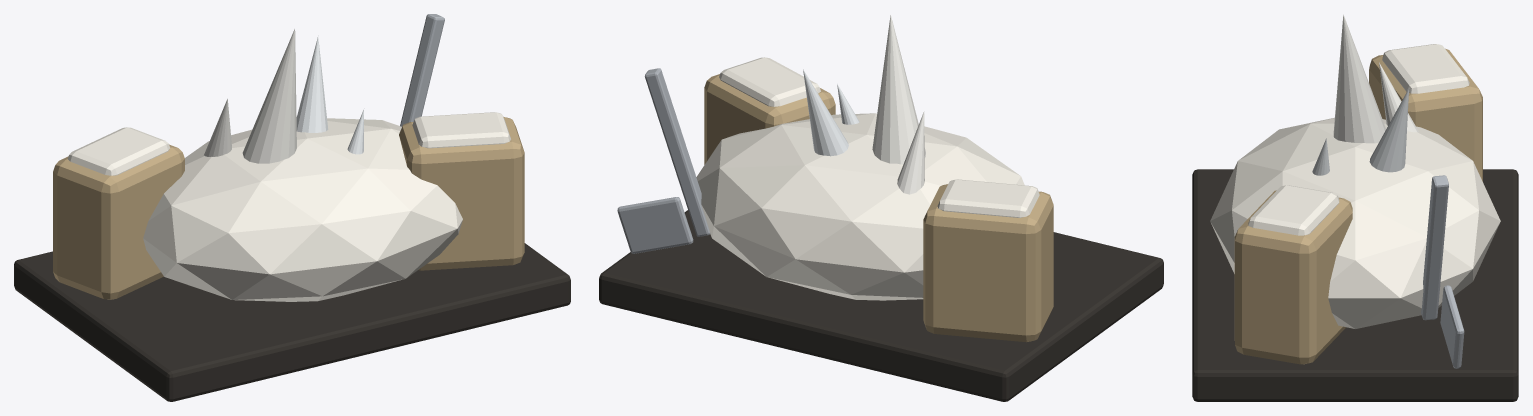
Rendered from quartz.glb.
The picture shows the model from 3 angles, left to right: view 1: azimuth 30°, elevation 25°; view 2: azimuth 150°, elevation 25°; view 3: azimuth 270°, elevation 25°; orthographic projection. The views are drawn at different scales.
Parts seen in each view (by area): view 1: quartz-sand-dune, quartz-black-pallet, quartz-left-sack, quartz-right-sack, quartz-crystal-0, quartz-right-fill, quartz-left-fill, quartz-spade-shaft, quartz-crystal-1, quartz-crystal-2; view 2: quartz-black-pallet, quartz-sand-dune, quartz-left-sack, quartz-right-sack, quartz-crystal-0, quartz-spade-blade, quartz-spade-shaft, quartz-left-fill, quartz-right-fill, quartz-crystal-1, quartz-crystal-2; view 3: quartz-black-pallet, quartz-sand-dune, quartz-right-sack, quartz-left-sack, quartz-crystal-0, quartz-right-fill, quartz-left-fill, quartz-spade-shaft, quartz-crystal-1, quartz-spade-blade, quartz-crystal-2, quartz-crystal-3.
Boxes of the visible parts, box(x1,y1,x2,y2) form: quartz-sand-dune: box(143, 118, 462, 301); quartz-black-pallet: box(14, 243, 570, 401); quartz-left-sack: box(53, 144, 184, 299); quartz-right-sack: box(399, 117, 524, 270); quartz-crystal-0: box(242, 29, 296, 163); quartz-right-fill: box(412, 112, 510, 148); quartz-left-fill: box(68, 127, 169, 175); quartz-spade-shaft: box(400, 14, 444, 126); quartz-crystal-1: box(296, 36, 328, 132); quartz-crystal-2: box(204, 99, 231, 156); quartz-black-pallet: box(599, 210, 1163, 401); quartz-sand-dune: box(696, 113, 1024, 300); quartz-left-sack: box(923, 184, 1053, 342); quartz-right-sack: box(704, 74, 835, 164); quartz-crystal-0: box(872, 15, 925, 164); quartz-spade-blade: box(617, 197, 693, 253); quartz-spade-shaft: box(644, 68, 710, 236); quartz-left-fill: box(937, 179, 1039, 217); quartz-right-fill: box(719, 57, 820, 106); quartz-crystal-1: box(803, 69, 848, 156); quartz-crystal-2: box(897, 111, 924, 194); quartz-black-pallet: box(1192, 169, 1518, 401); quartz-sand-dune: box(1210, 117, 1500, 328); quartz-right-sack: box(1234, 190, 1352, 364); quartz-left-sack: box(1369, 48, 1482, 181); quartz-crystal-0: box(1333, 14, 1386, 143); quartz-right-fill: box(1248, 185, 1339, 235); quartz-left-fill: box(1382, 44, 1469, 93); quartz-spade-shaft: box(1421, 175, 1448, 320); quartz-crystal-1: box(1369, 88, 1409, 172); quartz-spade-blade: box(1440, 285, 1464, 368); quartz-crystal-2: box(1379, 62, 1418, 132); quartz-crystal-3: box(1312, 138, 1329, 175).
Bounding box in the file's own units: 1.18 × 0.7544 × 0.7793.
